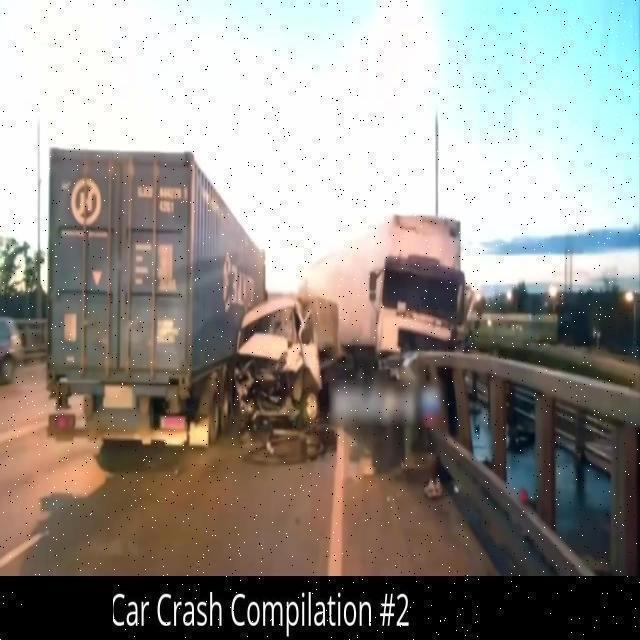multiple_accident: (180, 251, 450, 457)
